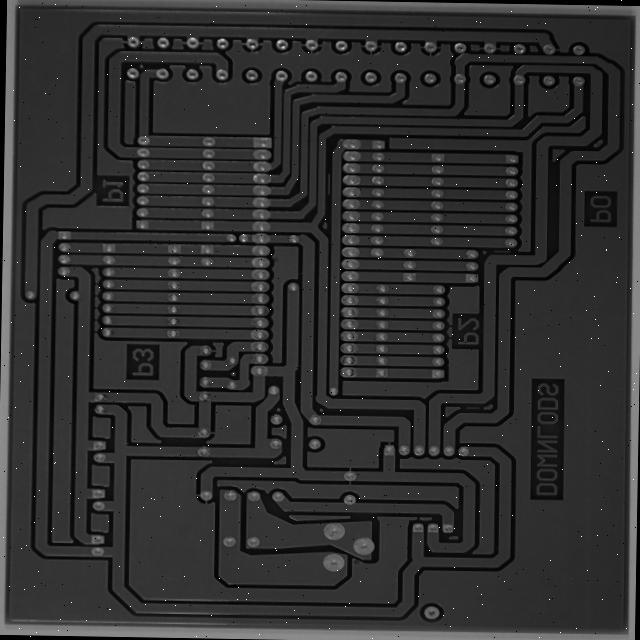spurious_copper: (349, 181, 359, 206), (530, 261, 553, 269), (501, 426, 519, 436)
